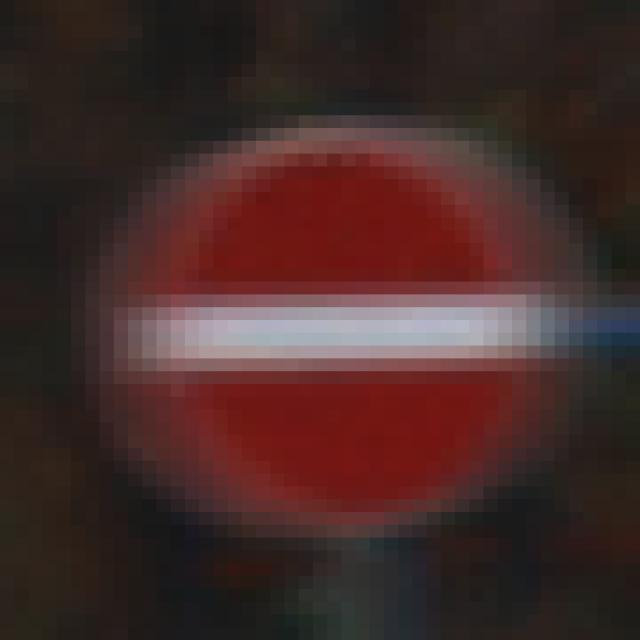No Entry: (72, 78, 570, 577)
